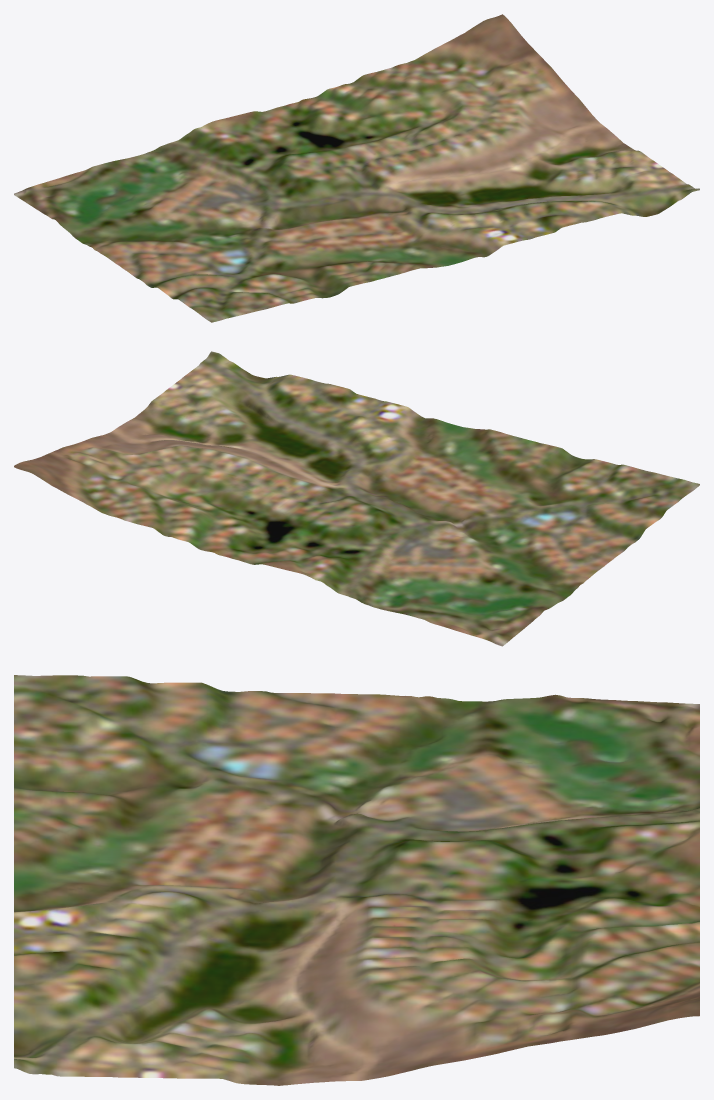
File: terrain_r1_c1.glb
3 renders of one model, top to bottom at view 1: azimuth 30°, elevation 25°; view 2: azimuth 150°, elevation 25°; view 3: azimuth 270°, elevation 25°, orthographic. The views are drawn at different scales.
Visible parts, largest first — view 1: terrain_r1_c1_lod0; view 2: terrain_r1_c1_lod0; view 3: terrain_r1_c1_lod0.
Boxes of the visible parts, <box> form: terrain_r1_c1_lod0: <box>14,14,699,322</box>; terrain_r1_c1_lod0: <box>14,351,699,646</box>; terrain_r1_c1_lod0: <box>14,675,699,1085</box>.
Bounding box in the file's own units: 1125 × 135 × 787.
Materials: 1 (1 with a texture image).
